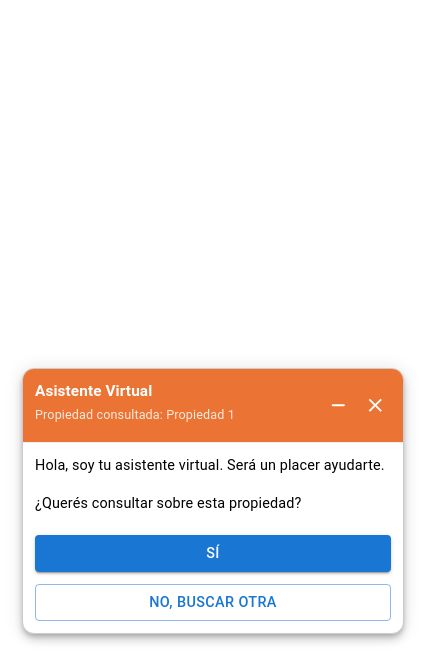
Test: Componente Chat › cambia de propiedad y envía CERRAR
Click the button "Sí" at coordinates (213, 553), box [35, 535, 391, 572]
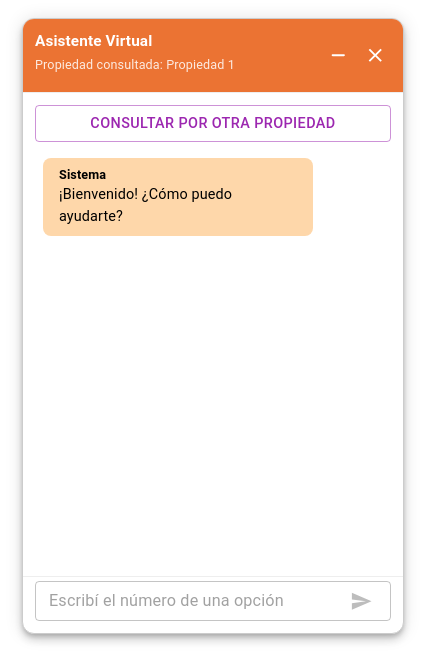
Click the button "Consultar por otra propiedad" at coordinates (213, 124), box [35, 105, 391, 142]
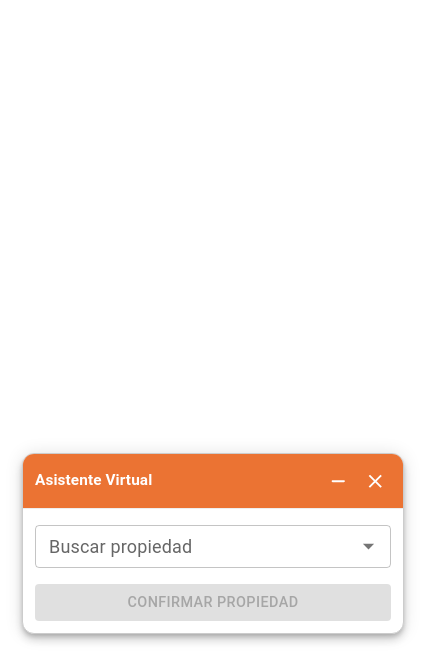
Expected: the dropdown labelled "Buscar propiedad" is shown, [41, 531, 352, 562]
